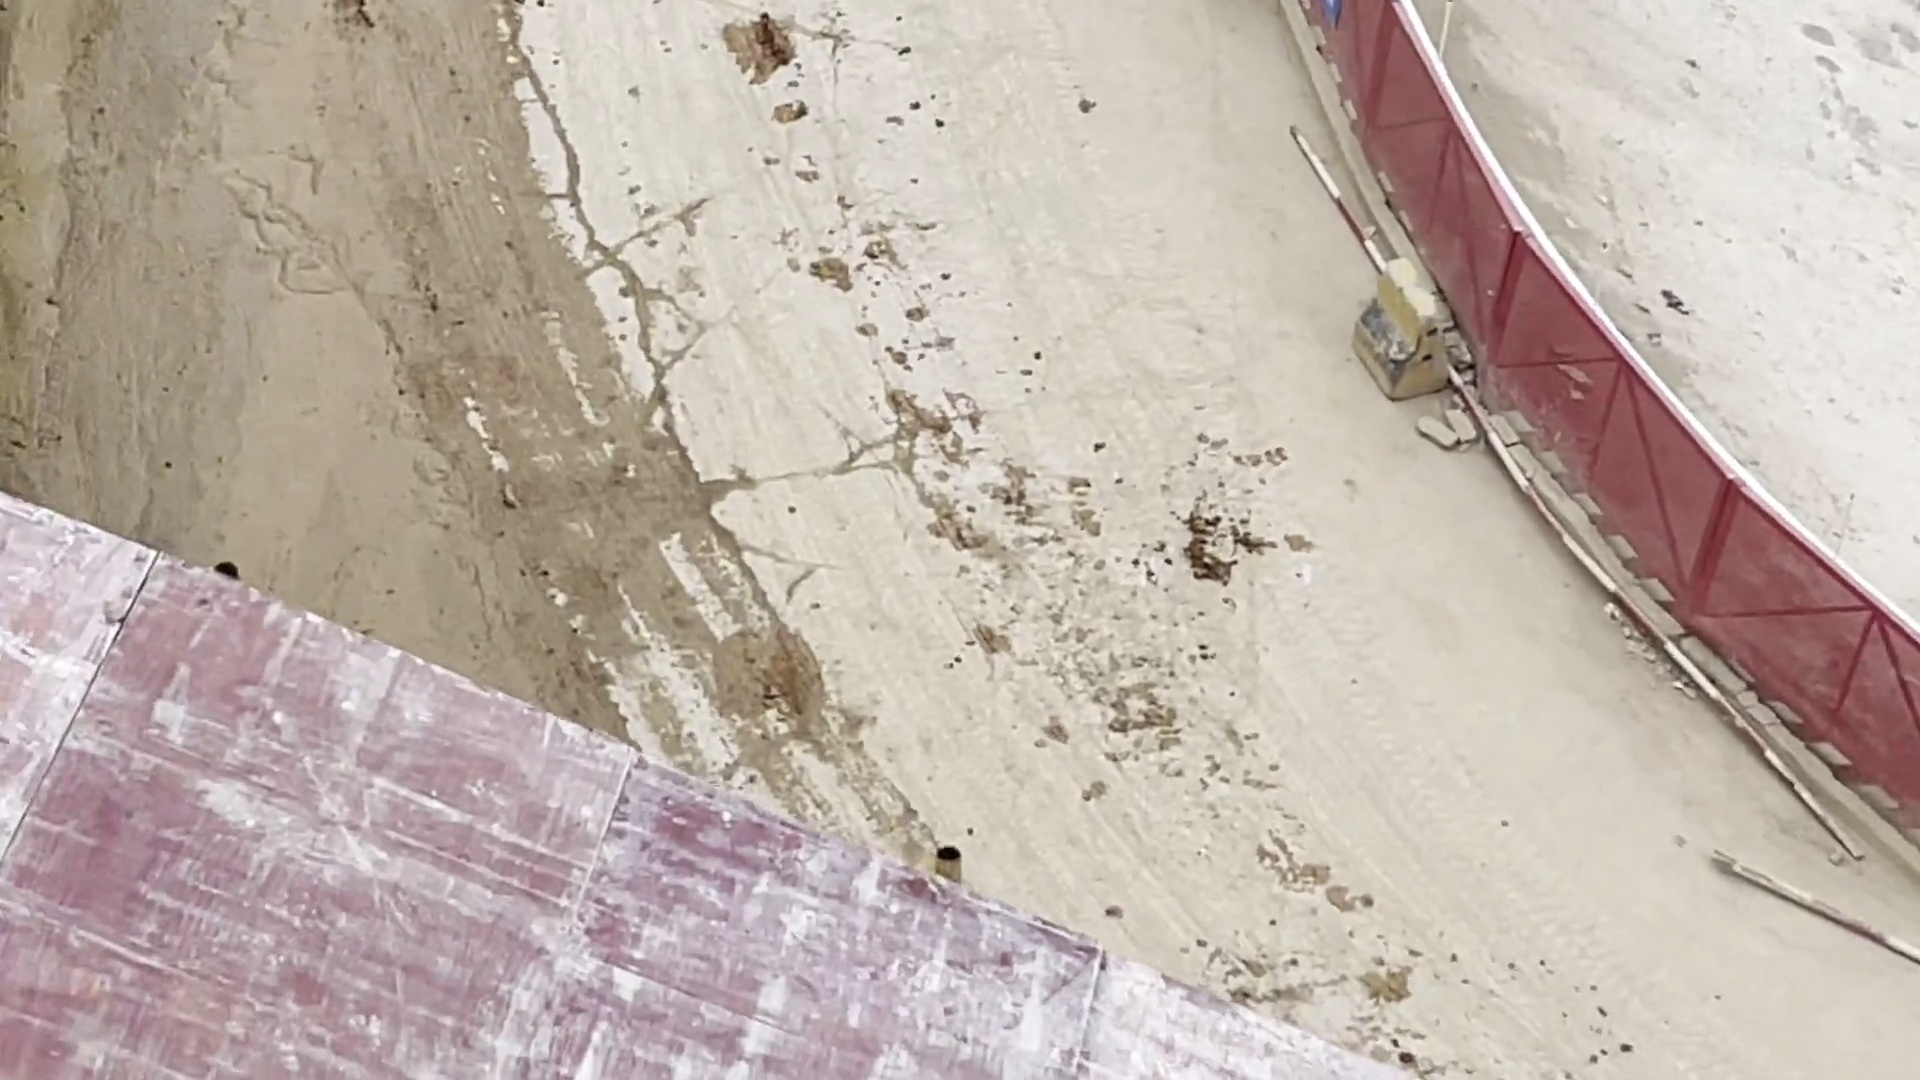fence: (1481, 243, 1741, 673), (1672, 473, 1920, 849), (1288, 8, 1520, 357)
